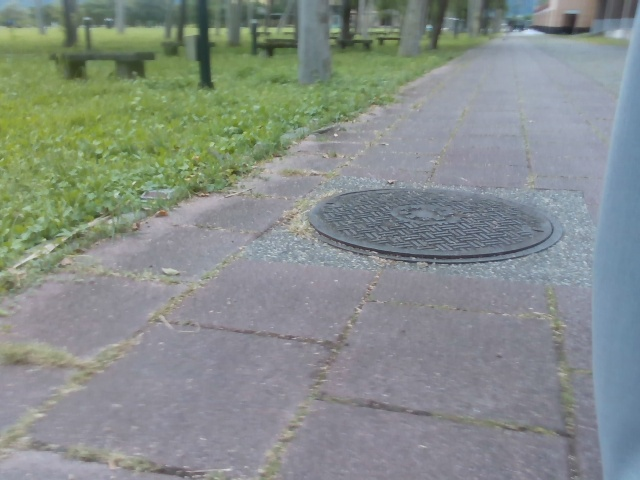grass: (0, 27, 505, 290), (0, 0, 295, 88), (339, 0, 510, 49)
road: (0, 34, 624, 479)
sidewalk: (304, 194, 426, 250)
